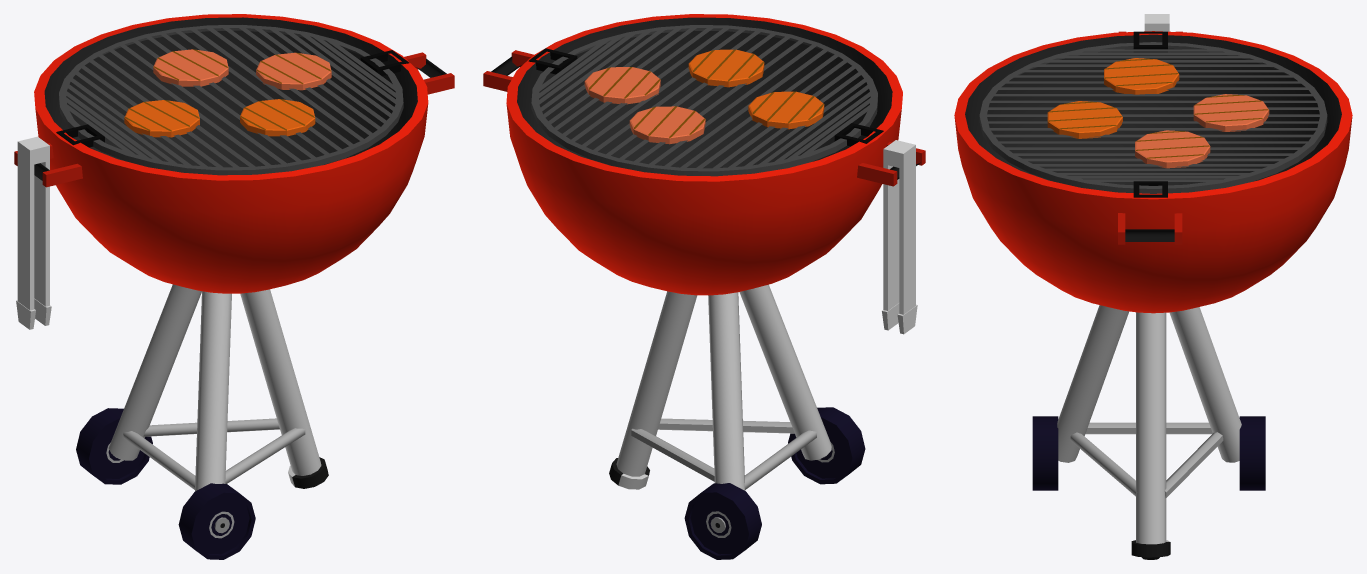
Rendered from barbecue_grill.glb.
3 renders of one model, left to right at view 1: azimuth 30°, elevation 25°; view 2: azimuth 150°, elevation 25°; view 3: azimuth 270°, elevation 25°, orthographic.
Parts seen in each view (by area): view 1: Sphere_1, Sphere.001_2, Cylinder.007_7, Cylinder.004_4, Cylinder.006_6, Cube_17, Cylinder.005_5, Cylinder_3, Cylinder.002_14, Cylinder.001_13, Cylinder.003_15, Cylinder.011_10 (+5 smaller); view 2: Sphere_1, Sphere.001_2, Cylinder.007_7, Cylinder.004_4, Cylinder.005_5, Cube_17, Cylinder.006_6, Cylinder_3, Cylinder.002_14, Cylinder.001_13, Cylinder.003_15, Cylinder.010_9 (+5 smaller); view 3: Sphere_1, Sphere.001_2, Cylinder.004_4, Cylinder.006_6, Cylinder.005_5, Cylinder.007_7, Cylinder.002_14, Cylinder_3, Cylinder.003_15, Cylinder.001_13, Cylinder.009_8, Cube.002_12 (+3 smaller).
Part boxes in pixels (box(x1,y1,x2,y2)): Sphere_1: box(34, 14, 428, 293); Sphere.001_2: box(59, 25, 403, 175); Cylinder.007_7: box(76, 408, 255, 559); Cylinder.004_4: box(240, 289, 328, 488); Cylinder.006_6: box(195, 291, 231, 491); Cube_17: box(16, 136, 51, 329); Cylinder.005_5: box(108, 284, 201, 460); Cylinder_3: box(240, 99, 315, 136); Cylinder.002_14: box(153, 49, 228, 86); Cylinder.001_13: box(124, 100, 199, 137); Cylinder.003_15: box(256, 52, 331, 90); Cylinder.011_10: box(143, 418, 279, 436); Sphere_1: box(506, 14, 902, 295); Sphere.001_2: box(531, 25, 877, 176); Cylinder.007_7: box(684, 407, 865, 559); Cylinder.004_4: box(609, 291, 697, 489); Cylinder.005_5: box(708, 292, 745, 490); Cube_17: box(882, 140, 917, 334); Cylinder.006_6: box(739, 284, 831, 460); Cylinder_3: box(688, 49, 764, 87); Cylinder.002_14: box(629, 106, 705, 144); Cylinder.001_13: box(748, 91, 824, 129); Cylinder.003_15: box(584, 67, 660, 104); Cylinder.010_9: box(658, 418, 794, 433); Sphere_1: box(954, 31, 1352, 313); Sphere.001_2: box(979, 42, 1327, 193); Cylinder.004_4: box(1131, 312, 1170, 559); Cylinder.006_6: box(1057, 305, 1129, 462); Cylinder.005_5: box(1169, 307, 1241, 462); Cylinder.007_7: box(1032, 416, 1265, 490); Cylinder.002_14: box(1193, 94, 1269, 131); Cylinder_3: box(1047, 101, 1122, 138); Cylinder.003_15: box(1135, 130, 1210, 168); Cylinder.001_13: box(1104, 58, 1179, 94); Cylinder.009_8: box(1085, 422, 1212, 434); Cube.002_12: box(1118, 213, 1182, 244).
Size of the model in its own units: 0.4581 by 0.4344 by 0.3807.
1 material, 1 textured.
